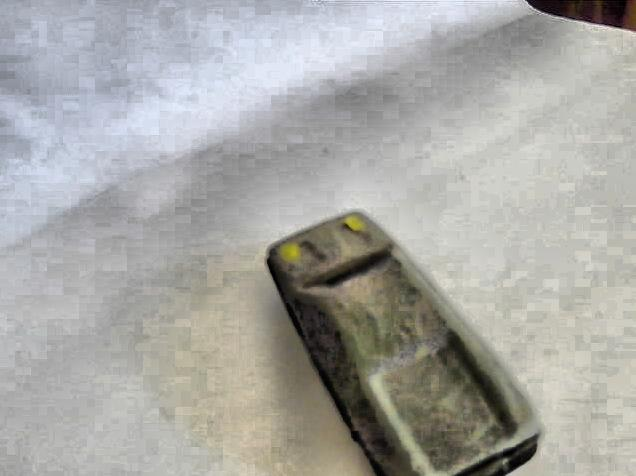normal_car: (262, 208, 543, 476)
